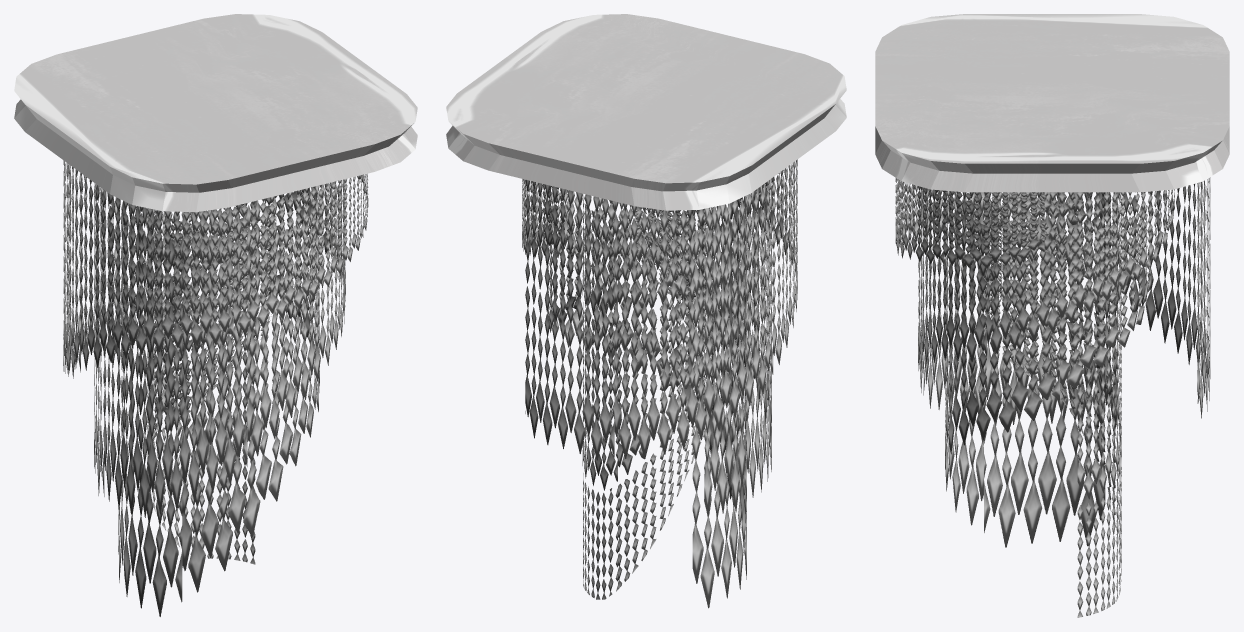
The model's file is Chandelier.fbx.
3 views of the same model, side by side, from view 1: azimuth 30°, elevation 25°; view 2: azimuth 150°, elevation 25°; view 3: azimuth 270°, elevation 25° (orthographic). The views are drawn at different scales.
Parts seen in each view (by area): view 1: Plane; view 2: Plane; view 3: Plane.
Boxes of the visible parts, left/top/right/bottom form: Plane: left=14, top=14, right=417, bottom=616; Plane: left=446, top=14, right=846, bottom=608; Plane: left=875, top=14, right=1229, bottom=617.
Size of the model in its own units: 110 by 173 by 110.
